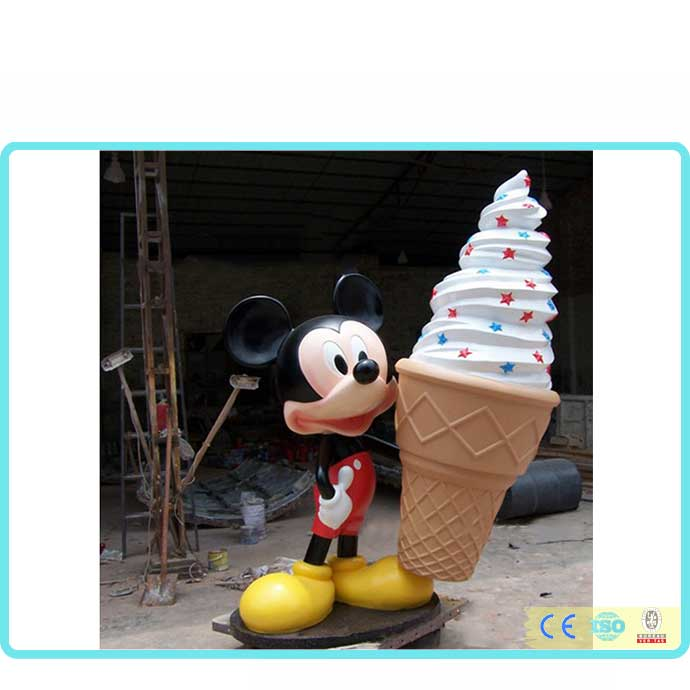Mickey: (226, 272, 404, 441)
